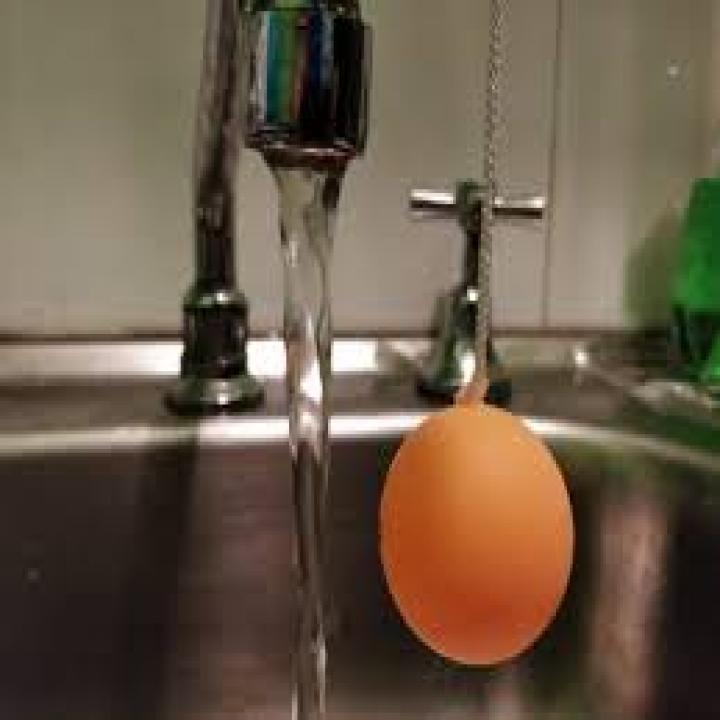orange: (379, 403, 577, 665)
